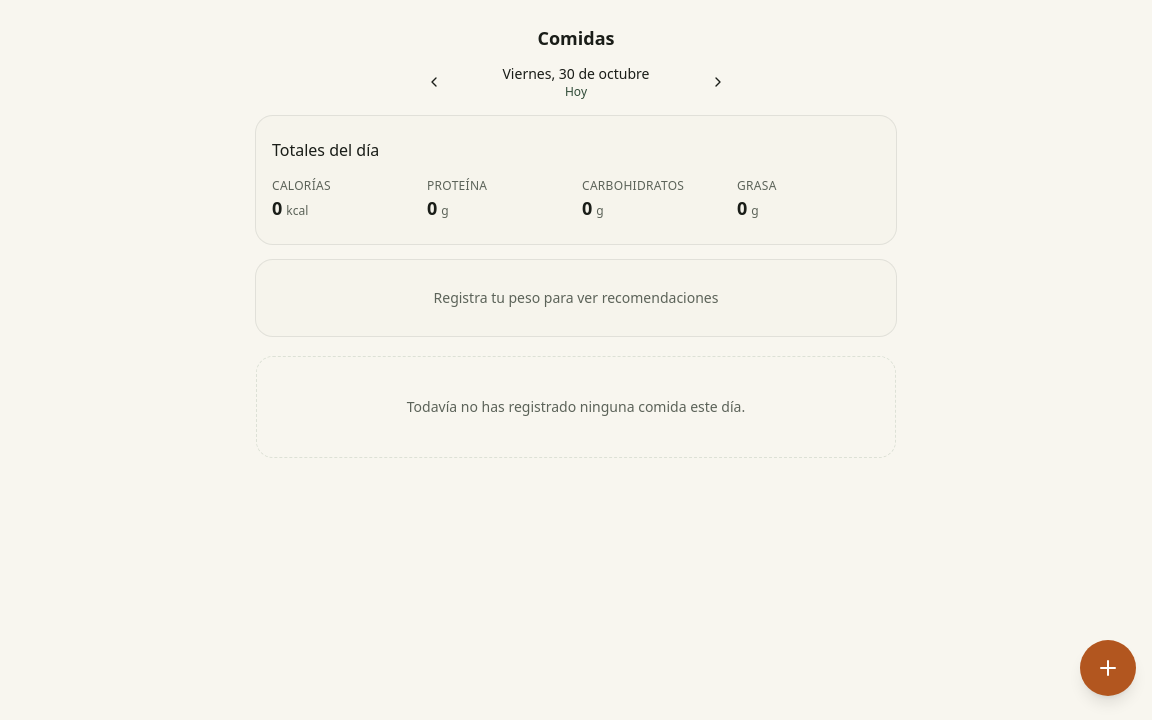
Test: Añadir comida: buscar y código de barras › muestra productos de Open Food Facts y usa su ración como cantidad
Expected: the button "Todavía no has registrado ninguna comida este día." is shown, [256,356,896,458]
Click the button named "Añadir comida". click: click(1108, 668)
box: [1080,640,1136,696]
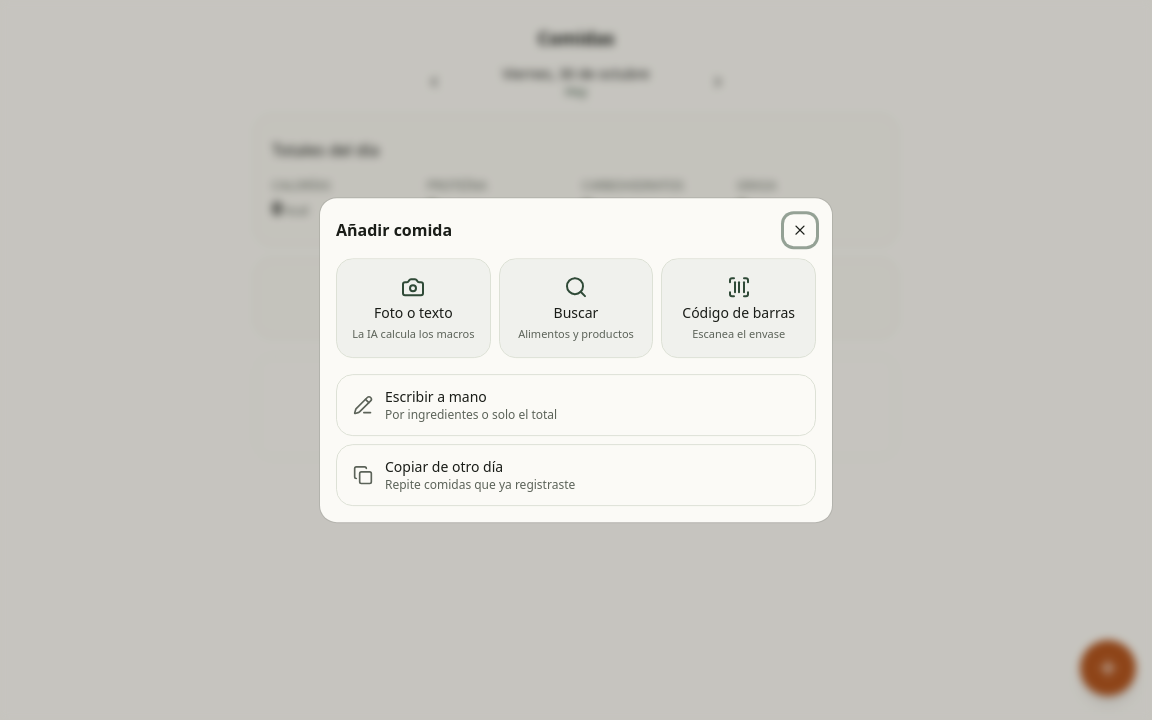
Click the button "Buscar Alimentos y productos". click: click(576, 308)
box: [499,258,653,358]
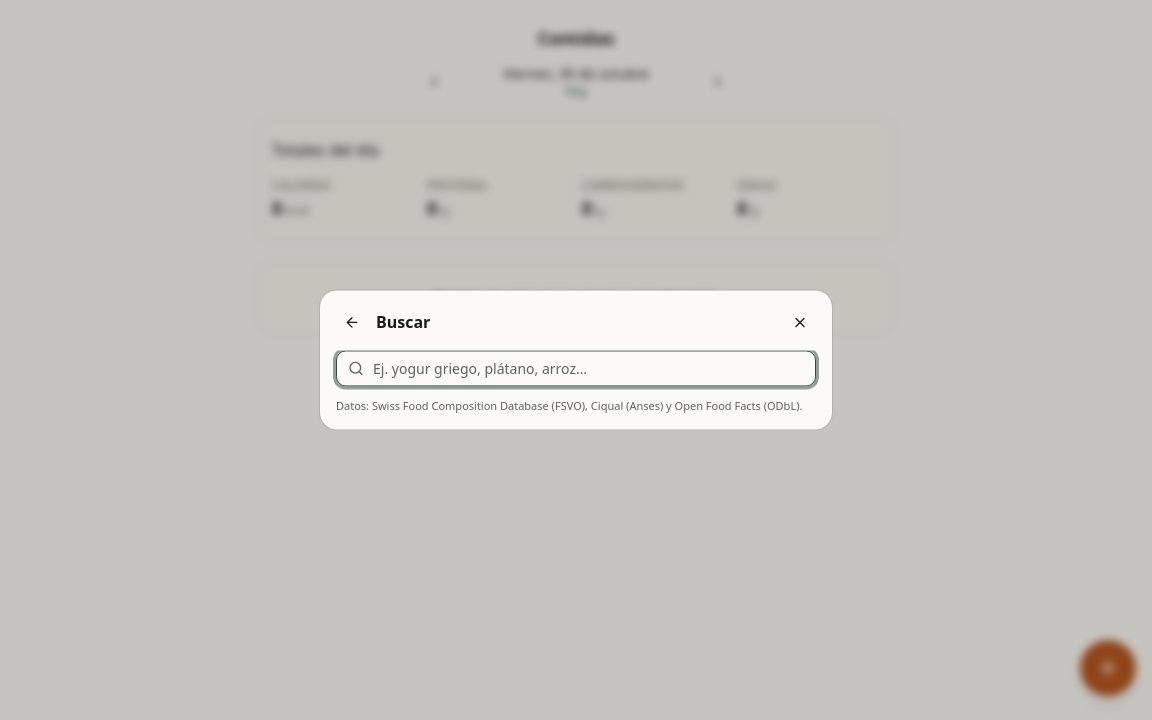
Type "yogur" into the search field named "Buscar". click: (576, 368)
box: [336,350,816,386]
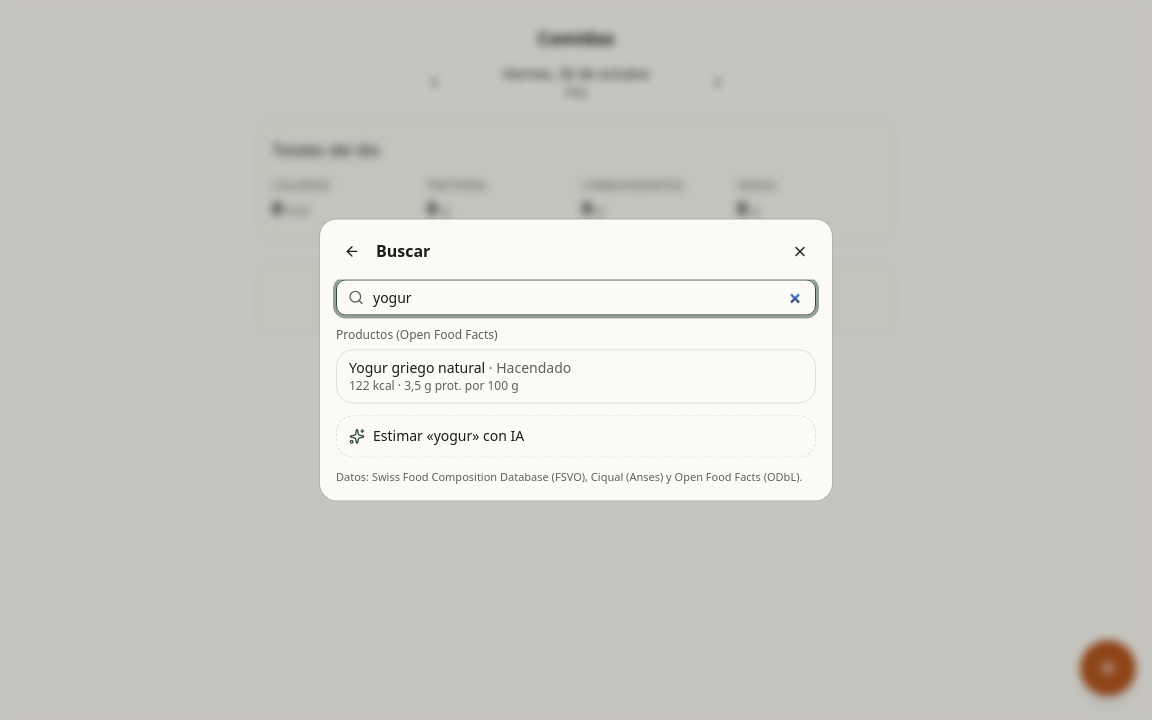
Click the button "Yogur griego natural". click: click(417, 368)
box: [337,350,815,402]
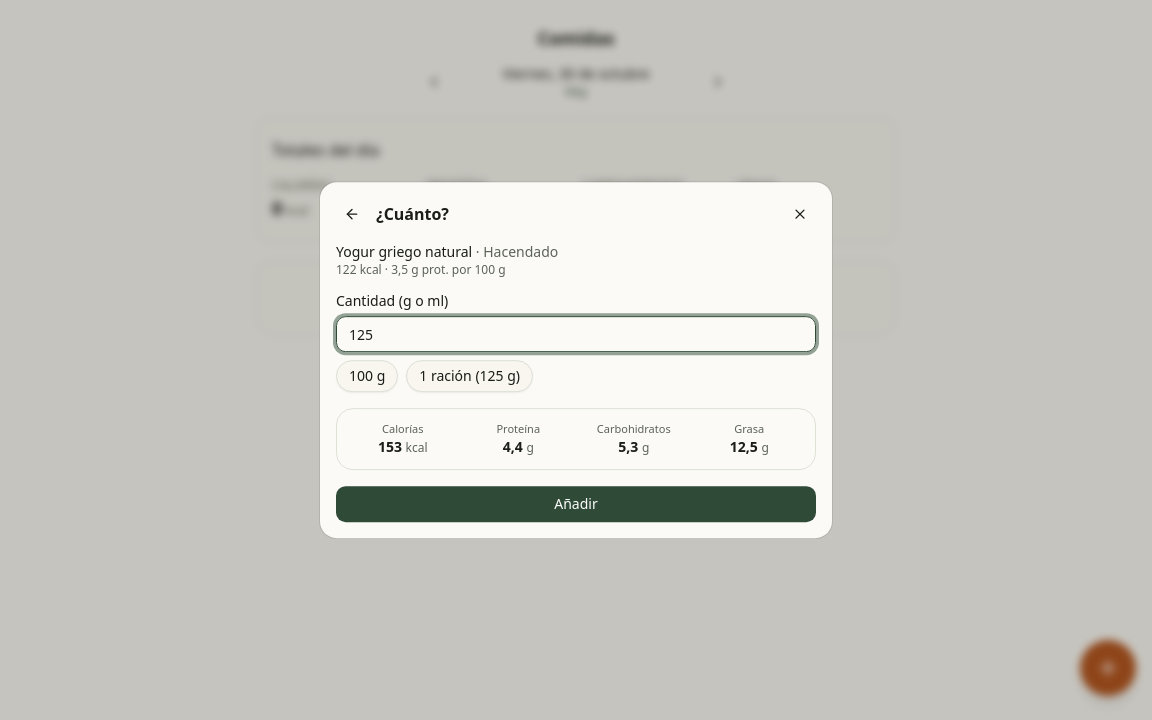
Result: the field labelled "Cantidad (g o ml)" holds "125" at [336,316,816,352]
